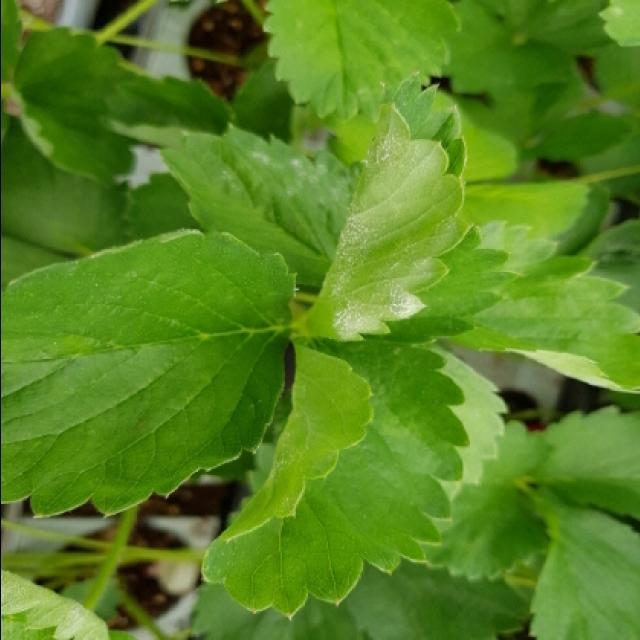Powdery Mildew Leaf: (288, 69, 521, 347), (156, 124, 365, 290), (449, 219, 640, 394), (2, 568, 118, 640)
